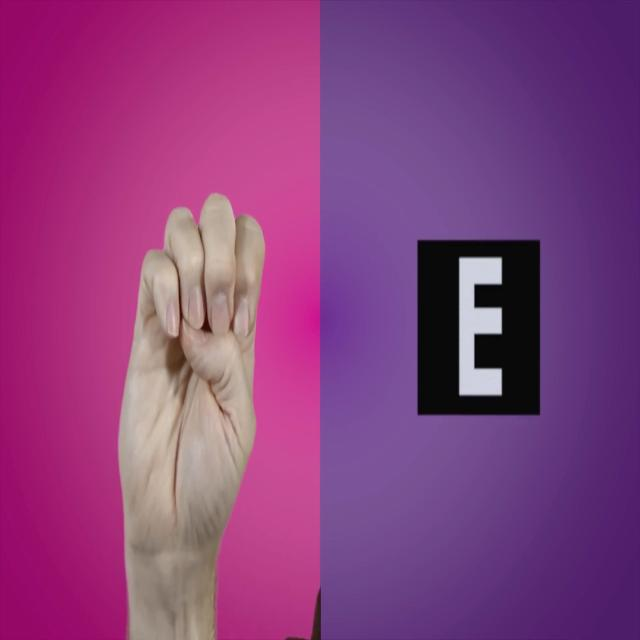E: (85, 153, 299, 640)
